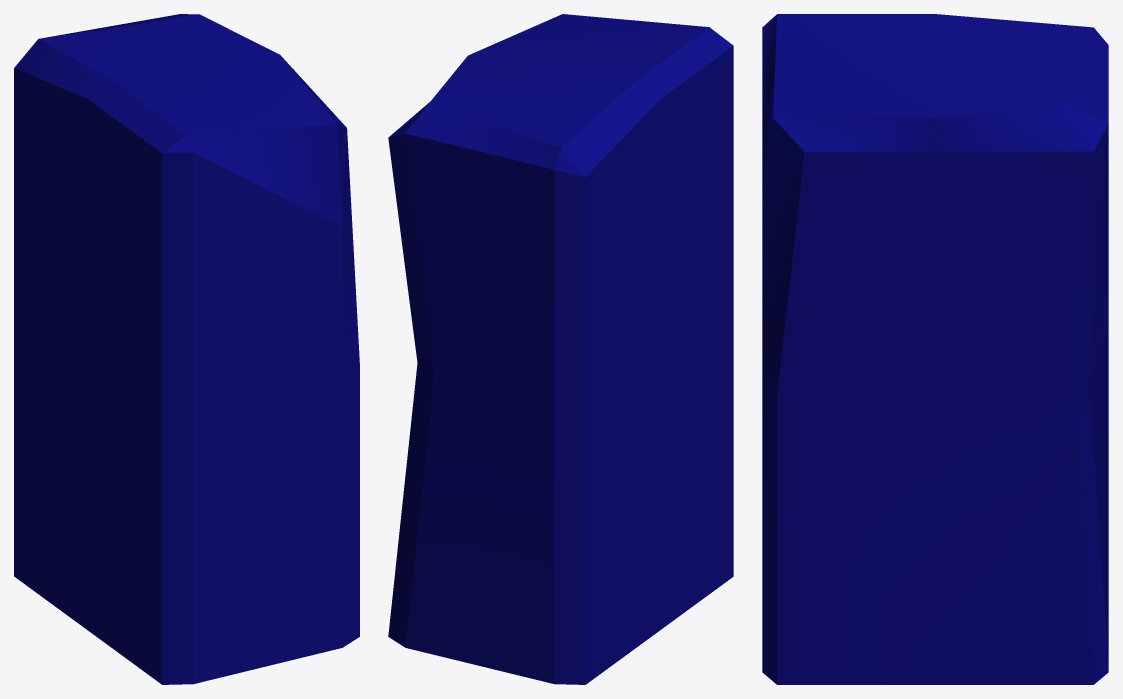
Rendered from SingleBigHighBrick_alpha.FBX.
3 renders of one model, left to right at view 1: azimuth 30°, elevation 25°; view 2: azimuth 150°, elevation 25°; view 3: azimuth 270°, elevation 25°, orthographic. The views are drawn at different scales.
Visible parts, largest first — view 1: Box002; view 2: Box002; view 3: Box002.
Part boxes in pixels (x1,y1,x2,y2): Box002: (14, 14, 359, 684); Box002: (388, 14, 733, 684); Box002: (762, 14, 1108, 684).
Bounding box in the file's own units: 26.92 × 70.87 × 38.31.
